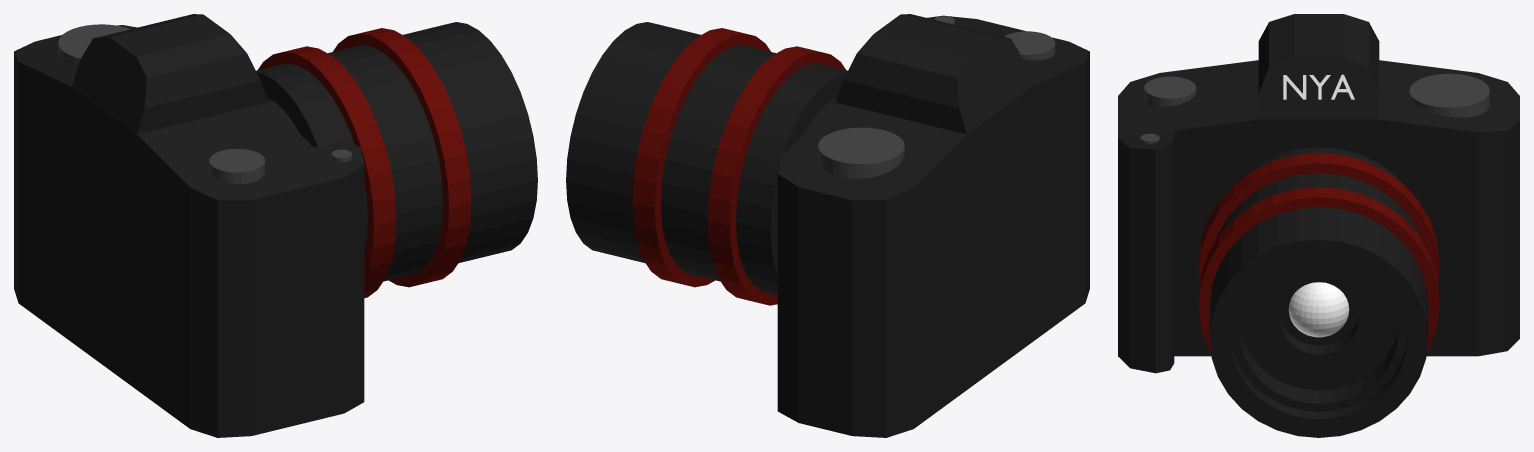
The model's file is edit.glb.
The picture shows the model from 3 angles, left to right: view 1: azimuth 30°, elevation 25°; view 2: azimuth 150°, elevation 25°; view 3: azimuth 270°, elevation 25°; orthographic projection. The views are drawn at different scales.
Visible parts, largest first — view 1: Cube, Cylinder.004, Cylinder.005, Cylinder.006, Cylinder.002, Cylinder.001; view 2: Cube, Cylinder.004, Cylinder.005, Cylinder.006, Cylinder.001, Cylinder.002; view 3: Cube, Cylinder.004, Cylinder.005, Cylinder.006, Cylinder.001, Sphere, Cylinder.002, Text.
Part boxes in pixels (bbox=[...]): Cube: bbox=[14, 14, 364, 437]; Cylinder.004: bbox=[256, 22, 537, 281]; Cylinder.005: bbox=[333, 28, 471, 287]; Cylinder.006: bbox=[258, 46, 396, 298]; Cylinder.002: bbox=[209, 149, 265, 183]; Cylinder.001: bbox=[58, 24, 129, 65]; Cube: bbox=[777, 14, 1089, 437]; Cylinder.004: bbox=[566, 22, 847, 295]; Cylinder.005: bbox=[632, 28, 770, 287]; Cylinder.006: bbox=[707, 46, 845, 305]; Cylinder.001: bbox=[818, 127, 904, 178]; Cylinder.002: bbox=[1004, 31, 1055, 60]; Cube: bbox=[1118, 14, 1519, 373]; Cylinder.004: bbox=[1209, 147, 1428, 437]; Cylinder.005: bbox=[1198, 187, 1439, 352]; Cylinder.006: bbox=[1198, 153, 1439, 282]; Cylinder.001: bbox=[1409, 73, 1489, 117]; Sphere: bbox=[1288, 282, 1349, 337]; Cylinder.002: bbox=[1144, 76, 1196, 106]; Text: bbox=[1283, 74, 1354, 99].
Size of the model in its own units: 1.99 by 1.6 by 2.
